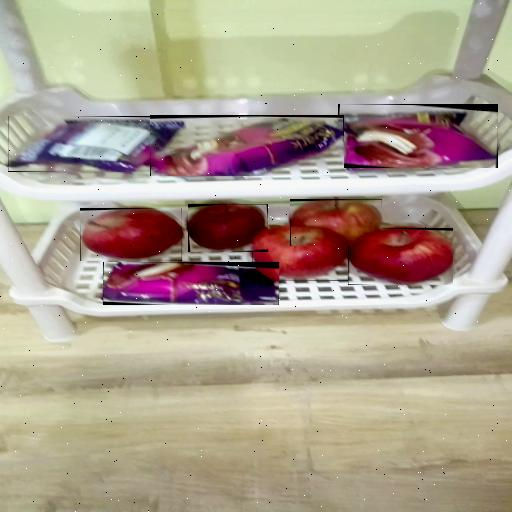Apple: (348, 228, 453, 285), (80, 208, 182, 261), (252, 225, 348, 281), (290, 199, 382, 246), (188, 204, 268, 252)
Choco Pie: (150, 115, 344, 176), (338, 104, 498, 168), (8, 116, 184, 172), (103, 262, 279, 305)
